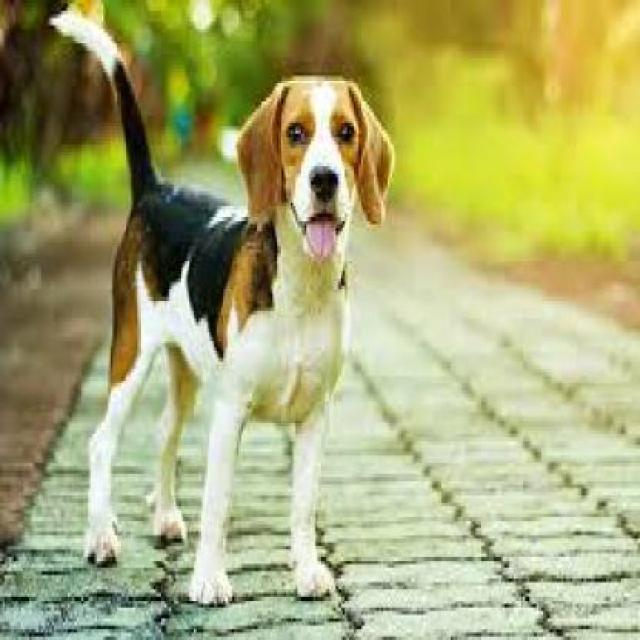Dog: (51, 0, 400, 608)
